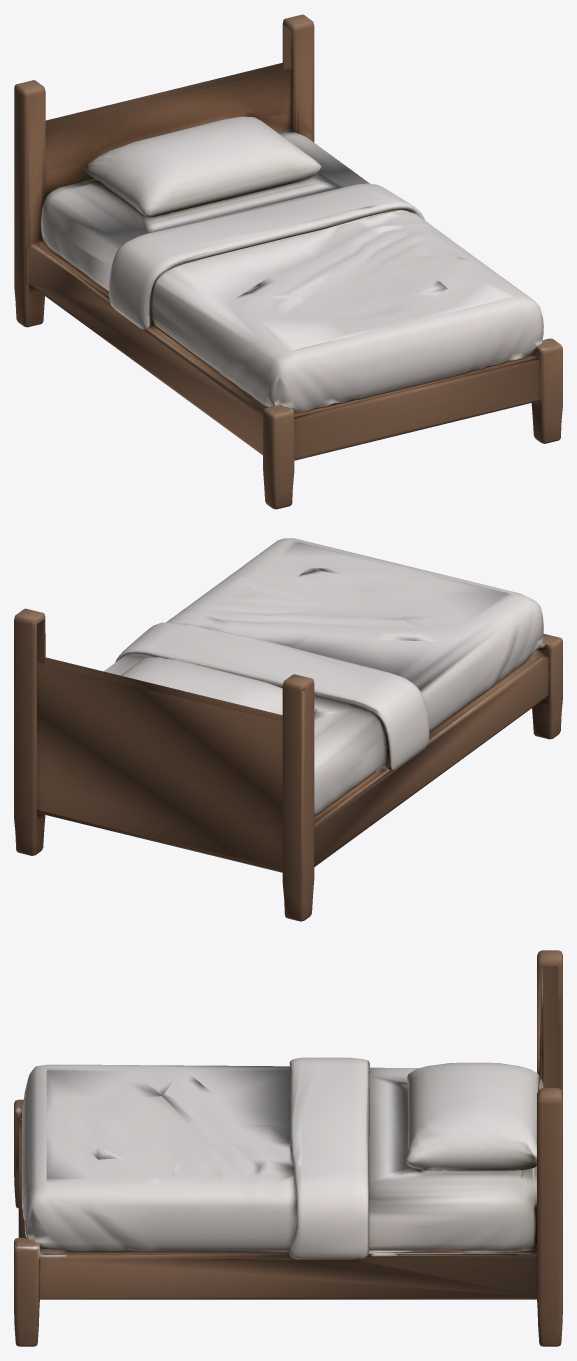
File: single_bed_realistic_style_b83bcfa1_v4.glb
3 views of the same model, one above another, from view 1: azimuth 30°, elevation 25°; view 2: azimuth 150°, elevation 25°; view 3: azimuth 270°, elevation 25° (orthographic). The views are drawn at different scales.
Visible parts, largest first — view 1: texture_pbr_20250901; view 2: texture_pbr_20250901; view 3: texture_pbr_20250901.
Boxes of the visible parts, x1,y1,x2,y2 form: texture_pbr_20250901: (14,14,562,509); texture_pbr_20250901: (14,538,562,921); texture_pbr_20250901: (14,950,562,1346).
Bounding box in the file's own units: 1.22 × 0.9551 × 1.9.
Materials: 1 (1 with a texture image).
